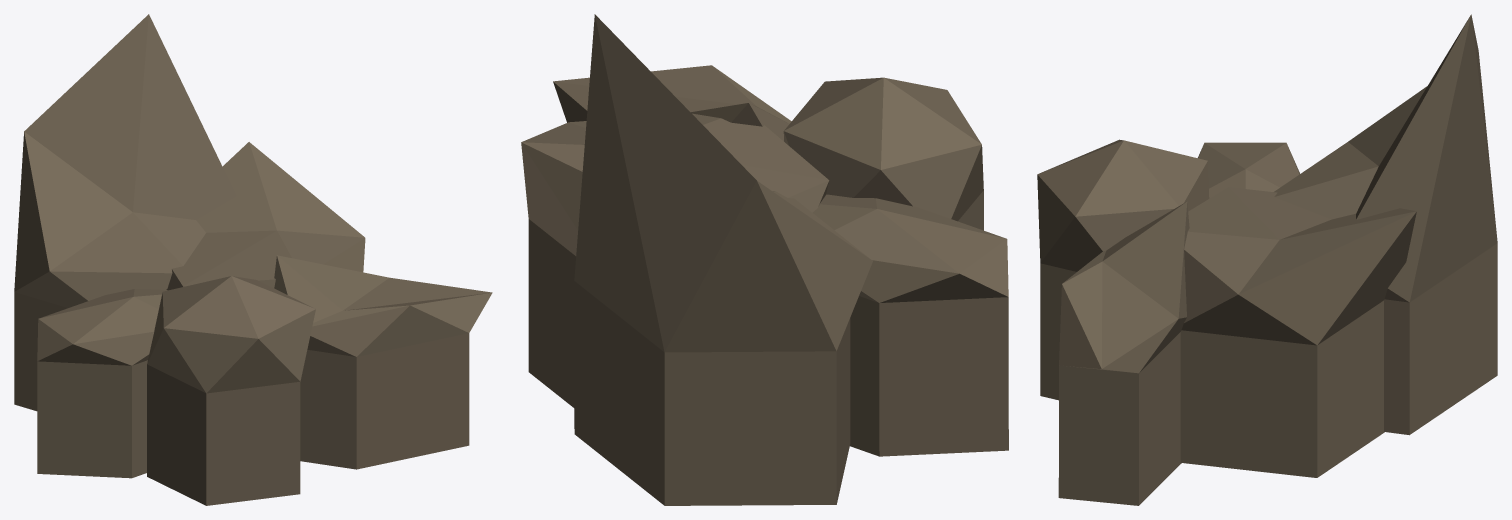
File: MedWaterRock.glb
The picture shows the model from 3 angles, left to right: view 1: azimuth 30°, elevation 25°; view 2: azimuth 150°, elevation 25°; view 3: azimuth 270°, elevation 25°; orthographic projection. The views are drawn at different scales.
Visible parts, largest first — view 1: Icosphere.004; view 2: Icosphere.004; view 3: Icosphere.004.
Part boxes in pixels (x1,y1,x2,y2): Icosphere.004: (14,14,492,505); Icosphere.004: (521,14,1008,505); Icosphere.004: (1037,14,1497,505).
Size of the model in its own units: 6.88 by 5.65 by 5.89.
